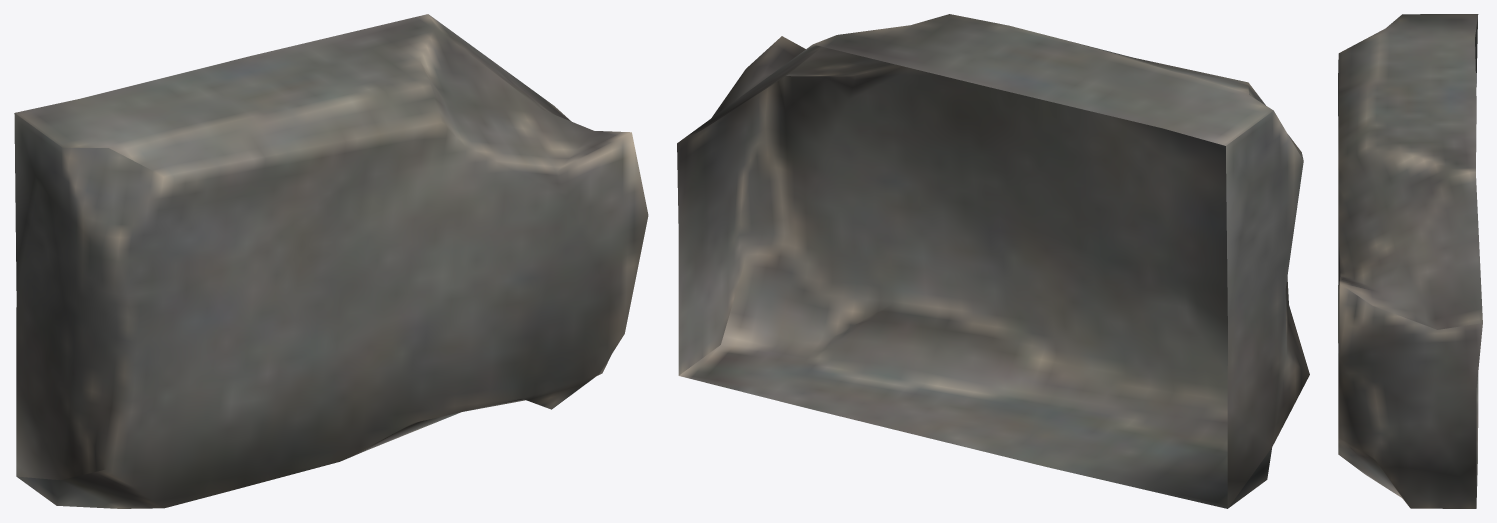
File: Rock_A9.fbx
The picture shows the model from 3 angles, left to right: view 1: azimuth 30°, elevation 25°; view 2: azimuth 150°, elevation 25°; view 3: azimuth 270°, elevation 25°; orthographic projection. The views are drawn at different scales.
Parts seen in each view (by area): view 1: Rock_A9__2_; view 2: Rock_A9__2_; view 3: Rock_A9__2_.
Part boxes in pixels (x1=…): Rock_A9__2_: x1=14, y1=14, x2=648, y2=508; Rock_A9__2_: x1=677, y1=14, x2=1309, y2=508; Rock_A9__2_: x1=1338, y1=14, x2=1482, y2=508.
Bounding box in the file's own units: 0.1935 × 0.123 × 0.0565.
